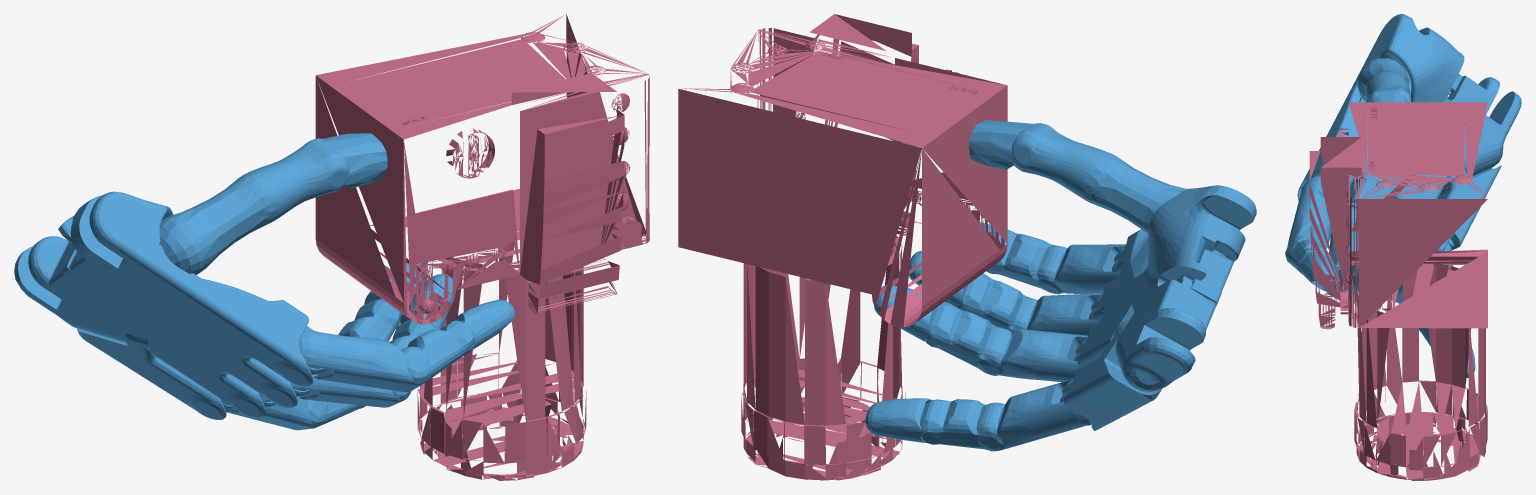
The picture shows the model from 3 angles, left to right: view 1: azimuth 30°, elevation 25°; view 2: azimuth 150°, elevation 25°; view 3: azimuth 270°, elevation 25°; orthographic projection. The views are drawn at different scales.
Parts seen in each view (by area): view 1: 7; view 2: 7; view 3: 7.
Part boxes in pixels (x1,y1,x2,y2): 7: (14, 14, 649, 480); 7: (678, 14, 1256, 480); 7: (1285, 14, 1521, 480).
Bounding box in the file's own units: 0.2469 × 0.1728 × 0.1187.
